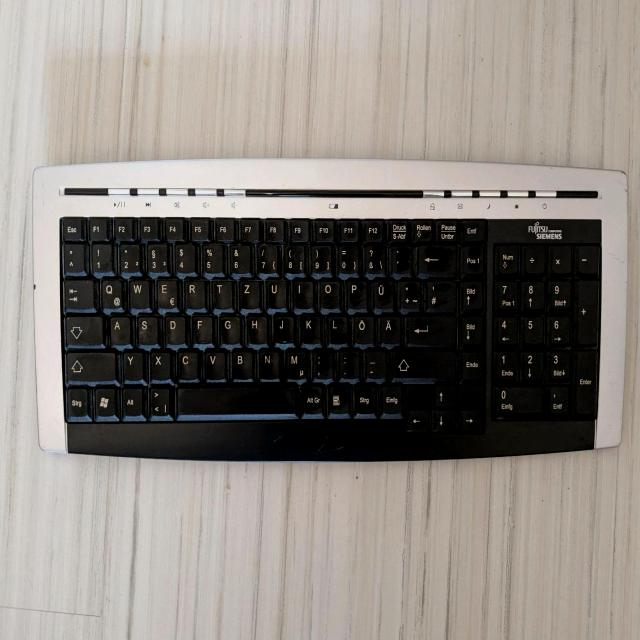0: (336, 243, 358, 275)
1: (90, 242, 112, 274)
2: (117, 242, 139, 273)
3: (144, 241, 168, 272)
4: (173, 241, 195, 272)
5: (201, 241, 223, 273)
6: (228, 242, 250, 273)
7: (255, 242, 277, 274)
8: (282, 244, 305, 275)
9: (308, 243, 331, 276)
a: (109, 313, 130, 344)
accent: (388, 244, 411, 275)
ae: (378, 312, 401, 344)
alt-left: (148, 385, 170, 417)
altgr-right: (301, 382, 324, 415)
b: (230, 347, 252, 379)
c: (176, 347, 197, 378)
caret: (62, 242, 84, 272)
comma: (310, 347, 334, 379)
d: (164, 313, 185, 343)
del: (416, 243, 457, 276)
e: (155, 276, 177, 309)
enter: (406, 312, 456, 346)
f: (191, 313, 213, 343)
g: (218, 313, 239, 343)
h: (245, 313, 267, 343)
hash: (425, 278, 456, 312)
i: (291, 277, 313, 308)
j: (272, 313, 294, 343)
k: (299, 312, 321, 343)
keyboard: (29, 160, 630, 466)
l: (326, 313, 348, 343)
m: (284, 347, 306, 381)
minus: (363, 348, 385, 380)
n: (257, 347, 279, 379)
o: (317, 278, 339, 309)
oe: (352, 314, 374, 344)
p: (345, 277, 367, 309)
plus: (397, 277, 421, 311)
point: (337, 349, 359, 379)
q: (100, 277, 122, 309)
r: (183, 277, 205, 309)
s: (136, 312, 158, 344)
shift-left: (65, 349, 115, 381)
shift-lock: (64, 313, 103, 346)
shift-right: (389, 348, 455, 380)
space: (177, 383, 297, 415)
ss: (362, 243, 384, 275)
strg-left: (64, 385, 88, 418)
strg-right: (379, 382, 402, 416)
t: (210, 278, 232, 308)
tab: (62, 276, 93, 310)
u: (264, 277, 286, 309)
ue: (370, 276, 394, 310)
v: (203, 348, 225, 379)
w: (127, 277, 149, 309)
x: (148, 348, 170, 379)
y: (121, 349, 143, 380)
z: (238, 277, 260, 307)
